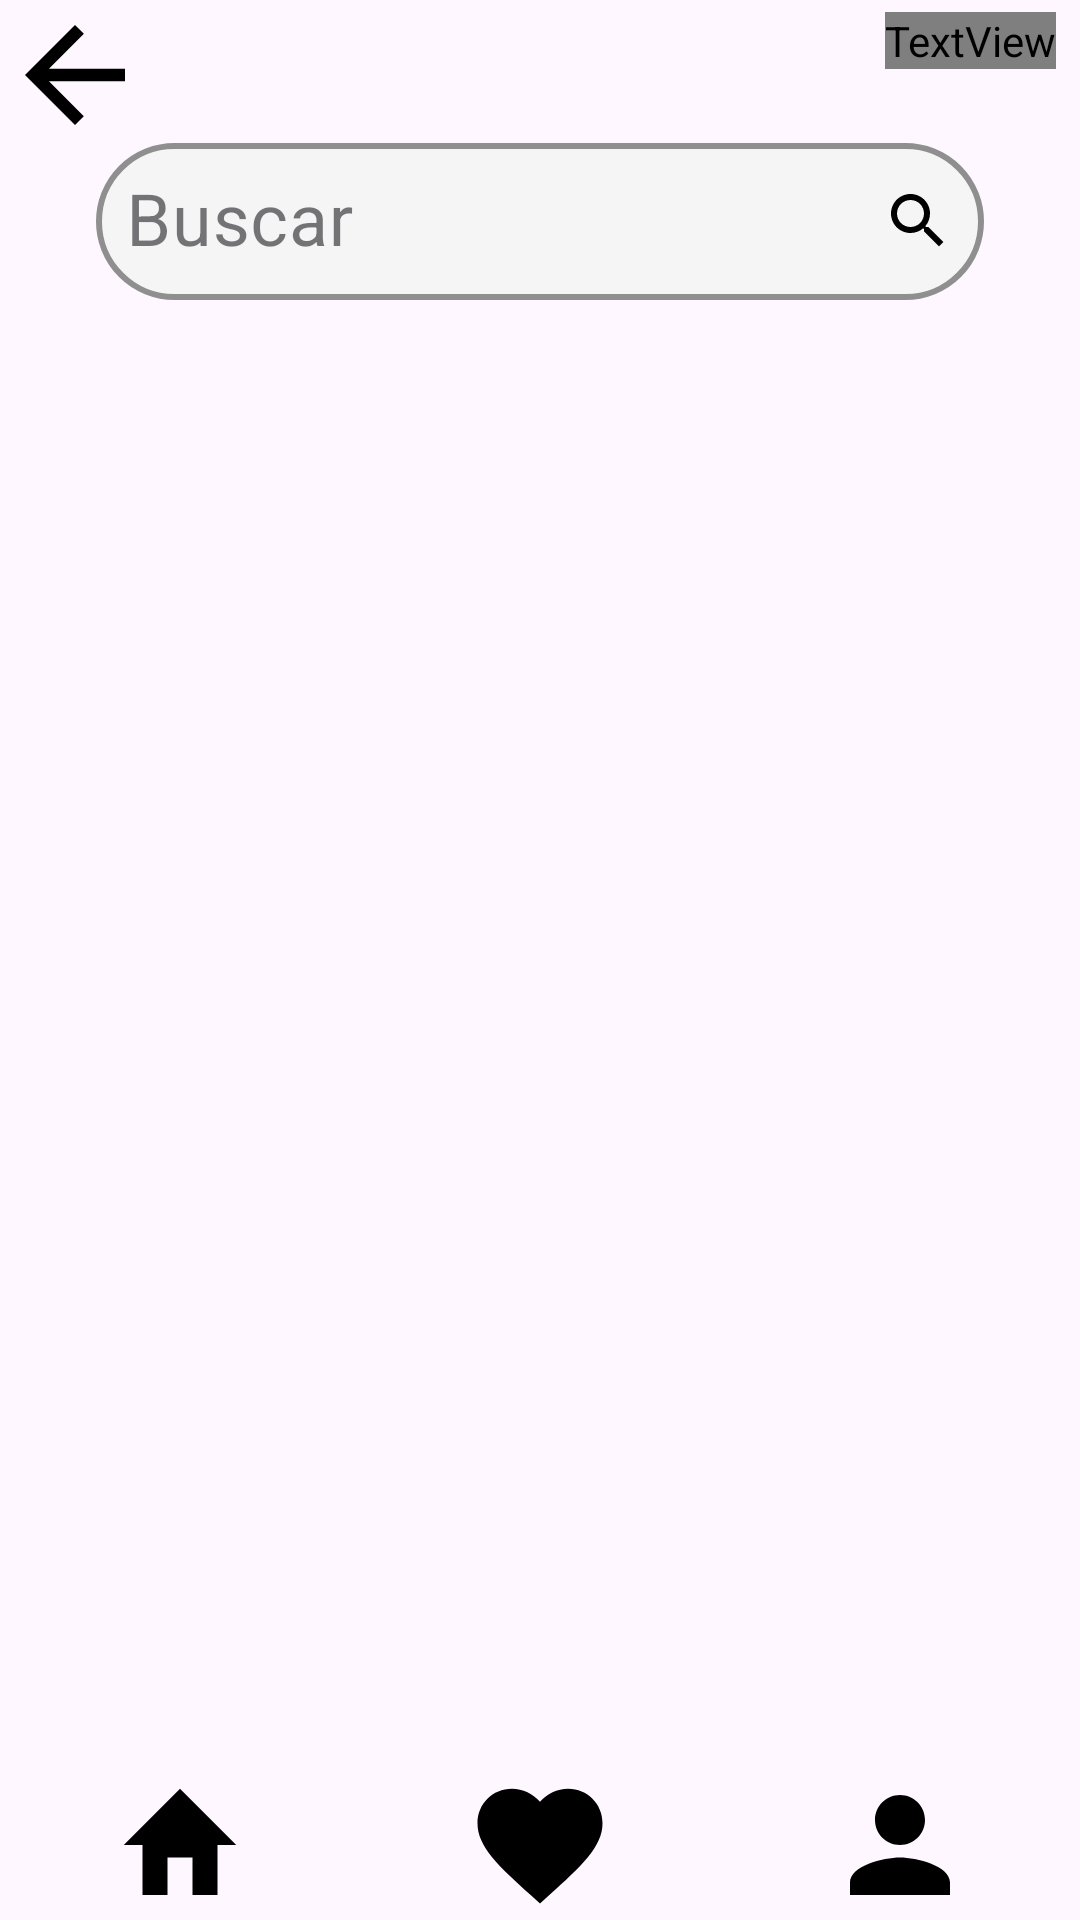

Icons on this 1080*1920 Android screen, each with its box as (x1, y1, x2, y2):
Favorites: (477, 1788, 603, 1904)
Home: (124, 1789, 236, 1895)
Profile: (850, 1795, 950, 1895)
Return: (25, 25, 125, 125)
